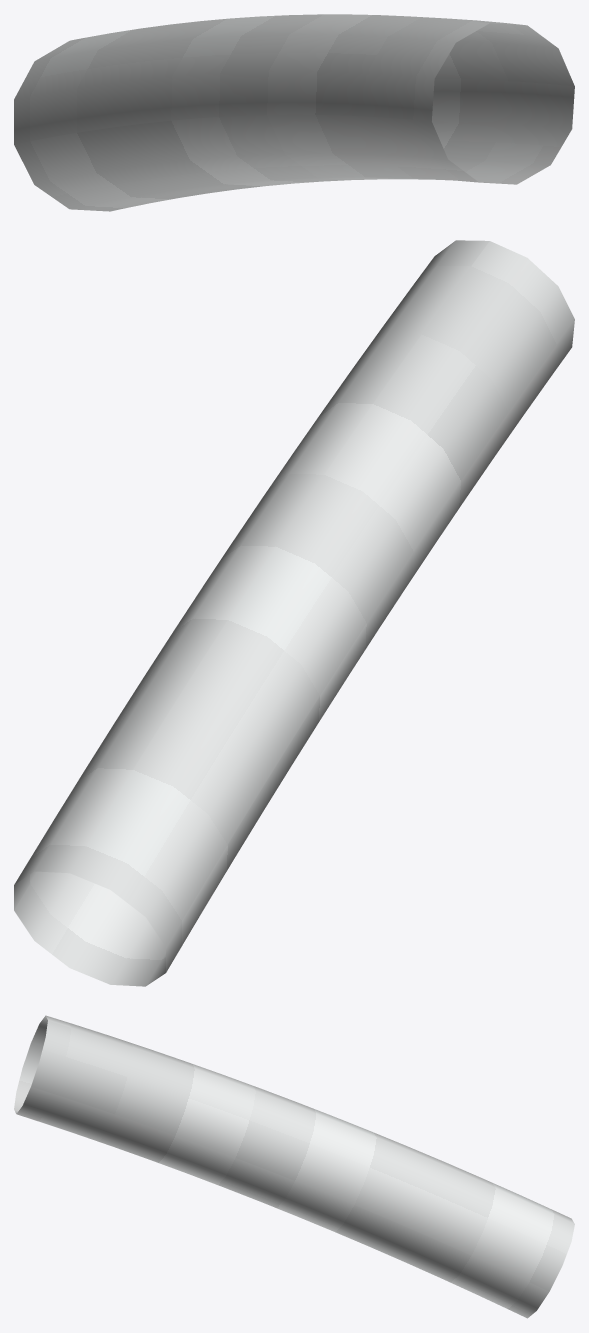
The model's file is luminairearm_caltrans10ftdouble_c8.obj.
3 renders of one model, top to bottom at view 1: azimuth 30°, elevation 25°; view 2: azimuth 150°, elevation 25°; view 3: azimuth 270°, elevation 25°, orthographic. The views are drawn at different scales.
Parts seen in each view (by area): view 1: luminairearm_caltrans10ftdouble_c8; view 2: luminairearm_caltrans10ftdouble_c8; view 3: luminairearm_caltrans10ftdouble_c8.
Part boxes in pixels (box(x1,y1,x2,y2)): luminairearm_caltrans10ftdouble_c8: box(14, 14, 574, 211); luminairearm_caltrans10ftdouble_c8: box(14, 240, 574, 986); luminairearm_caltrans10ftdouble_c8: box(14, 1015, 574, 1318).
Size of the model in its own units: 0.2125 by 0.6221 by 1.08.
